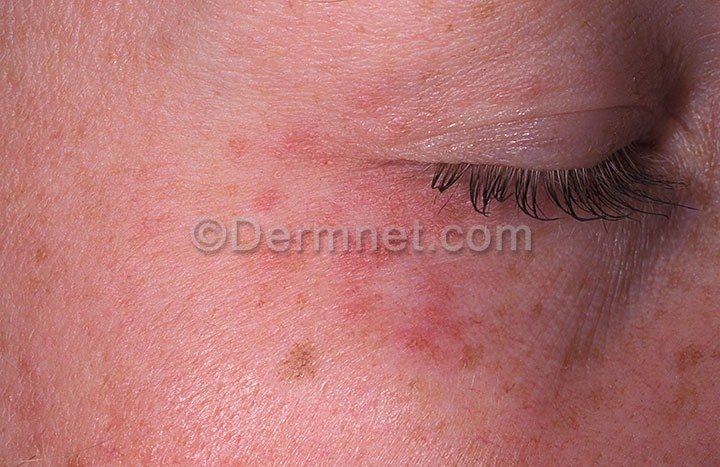Acne: (198, 139, 598, 368)
